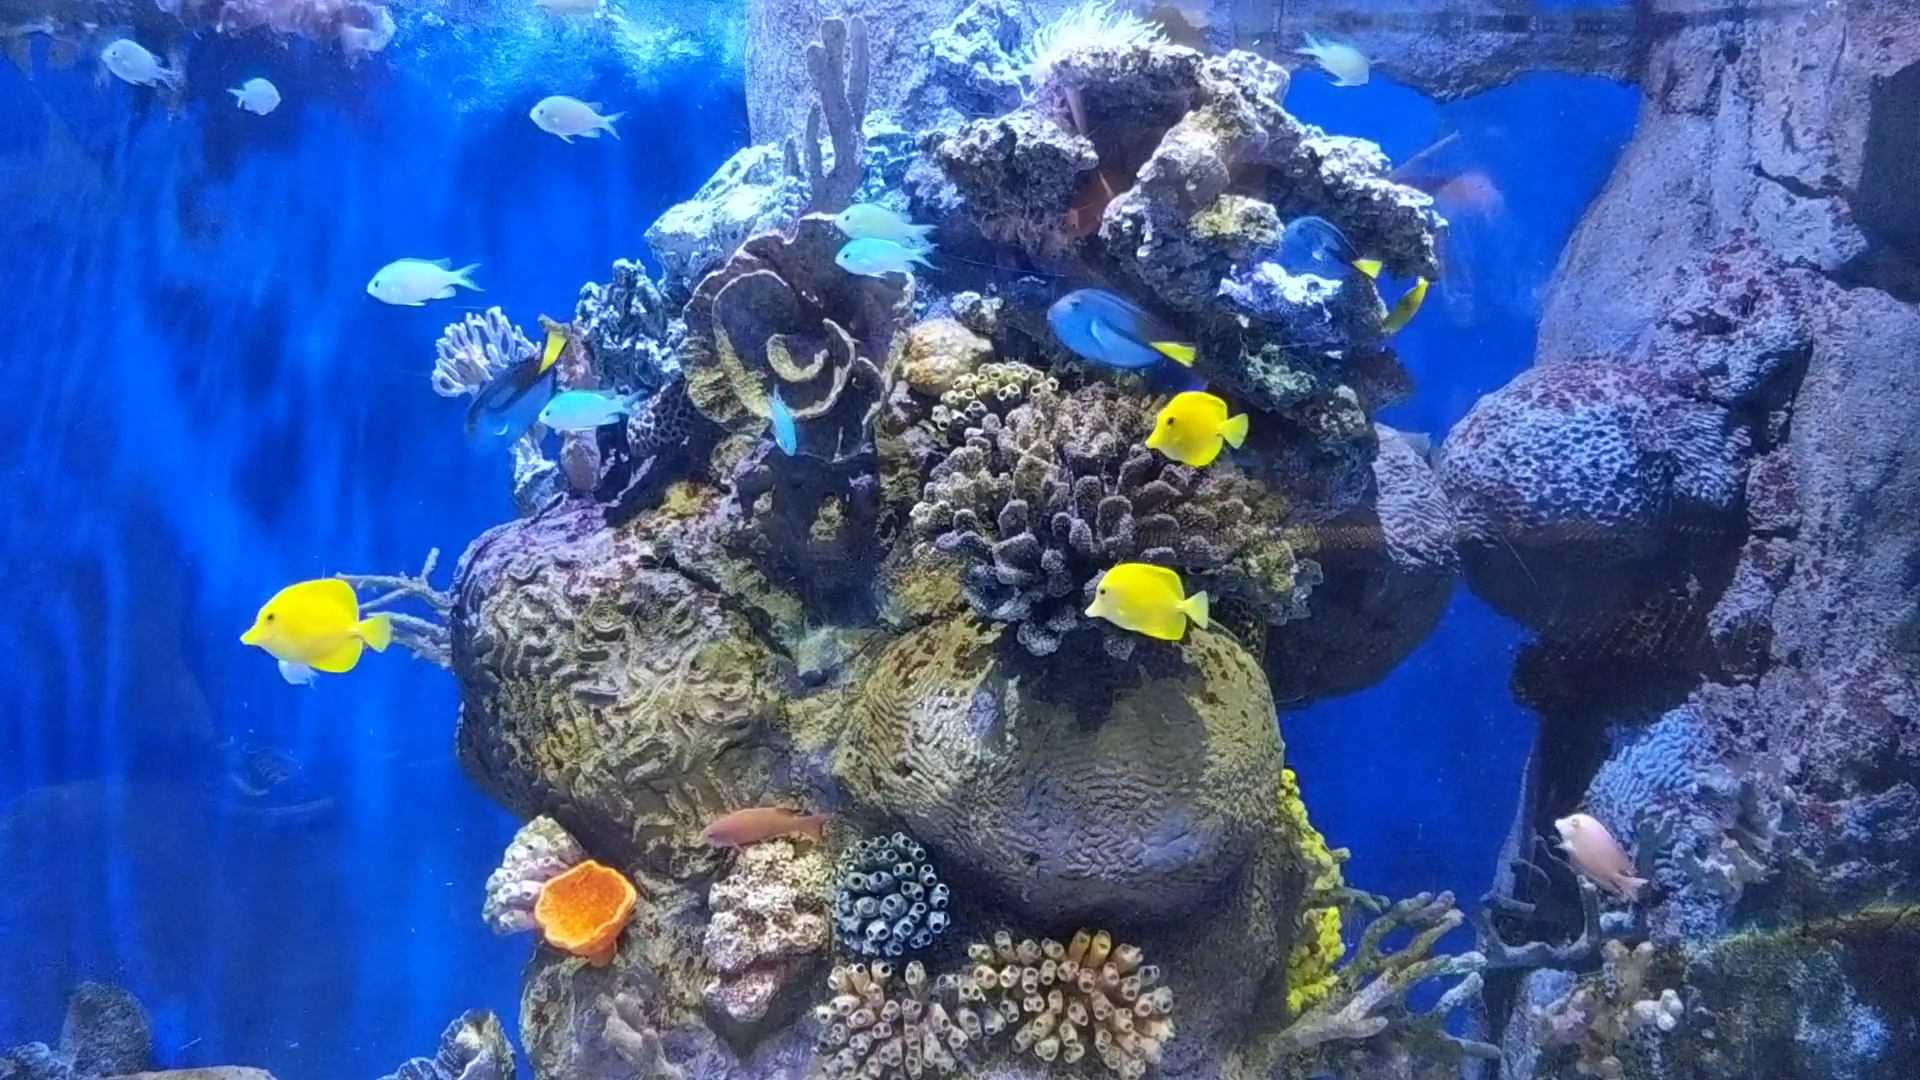blue tang surgeonfish: (1036, 270, 1205, 380), (464, 309, 578, 452), (1270, 207, 1370, 305)
damselfish: (510, 67, 626, 142), (524, 368, 642, 438), (348, 249, 483, 310), (1298, 29, 1385, 102), (827, 225, 939, 280), (831, 195, 938, 251), (98, 32, 175, 98), (218, 73, 290, 127)
pink fish: (1540, 793, 1656, 911)
saddle butterfly fish: (224, 566, 410, 686), (1079, 550, 1225, 644), (1139, 382, 1258, 473)
